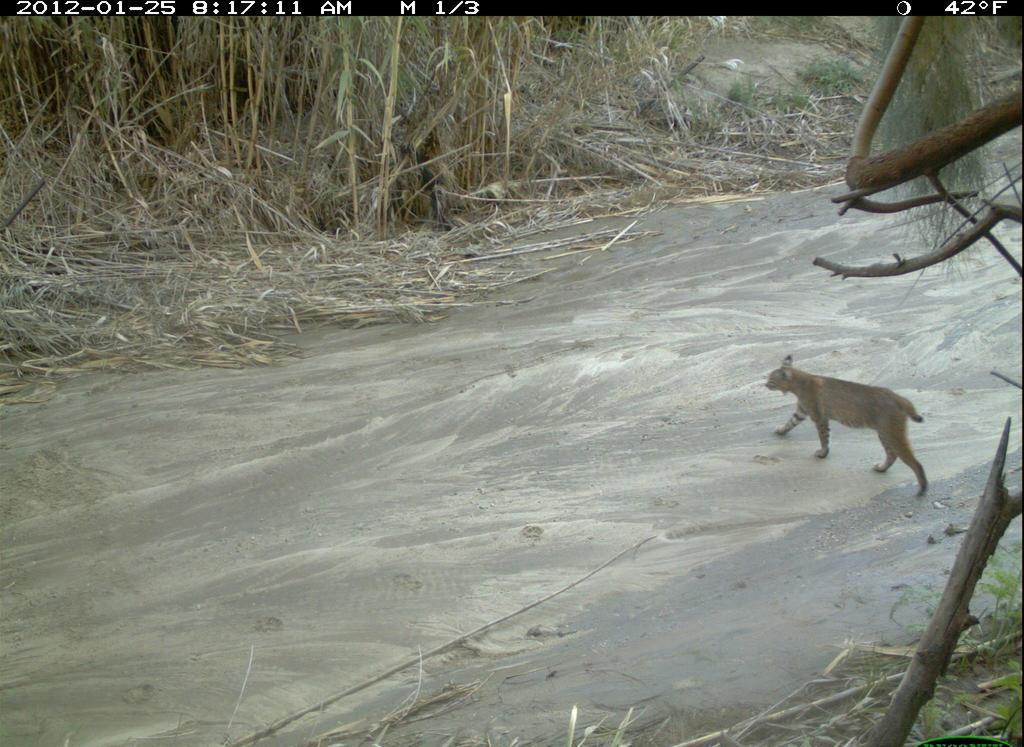bobcat: (752, 349, 961, 520)
